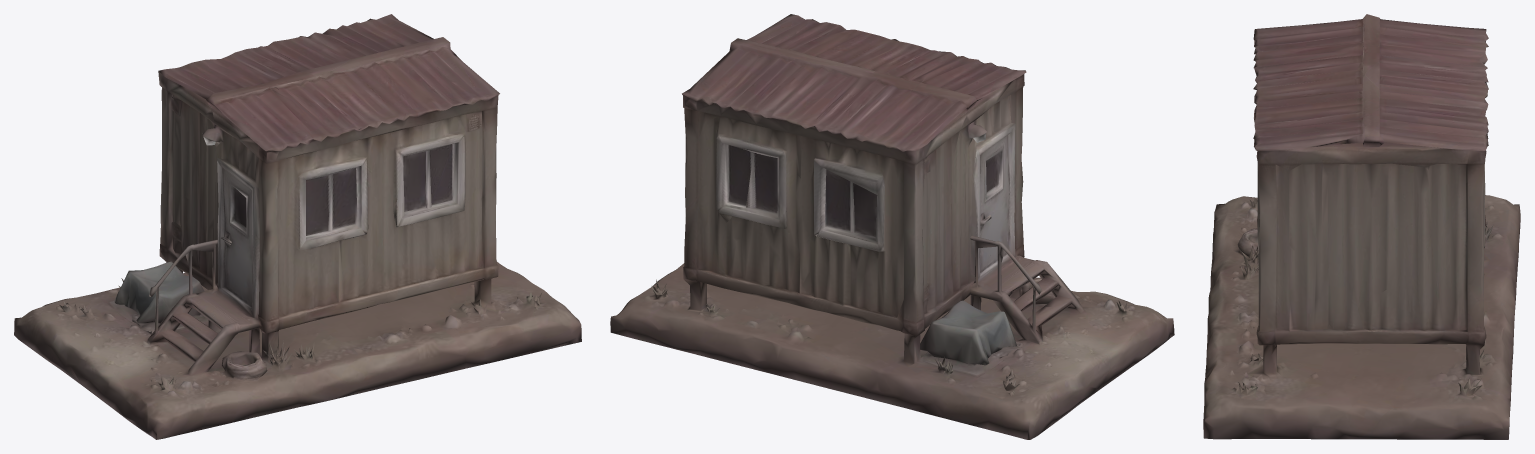
The model's file is mining_site_cabin.glb.
3 renders of one model, left to right at view 1: azimuth 30°, elevation 25°; view 2: azimuth 150°, elevation 25°; view 3: azimuth 270°, elevation 25°, orthographic. The views are drawn at different scales.
Parts seen in each view (by area): view 1: tripo_node_14a23efc-3fb2-4d03-bdf6-c6d601fdd3fd; view 2: tripo_node_14a23efc-3fb2-4d03-bdf6-c6d601fdd3fd; view 3: tripo_node_14a23efc-3fb2-4d03-bdf6-c6d601fdd3fd.
Boxes of the visible parts, x1,y1,x2,y2 form: tripo_node_14a23efc-3fb2-4d03-bdf6-c6d601fdd3fd: [14, 14, 581, 439]; tripo_node_14a23efc-3fb2-4d03-bdf6-c6d601fdd3fd: [610, 14, 1174, 439]; tripo_node_14a23efc-3fb2-4d03-bdf6-c6d601fdd3fd: [1203, 14, 1520, 439].
Size of the model in its own units: 1 by 0.5806 by 0.6098.
1 material, 1 textured.
